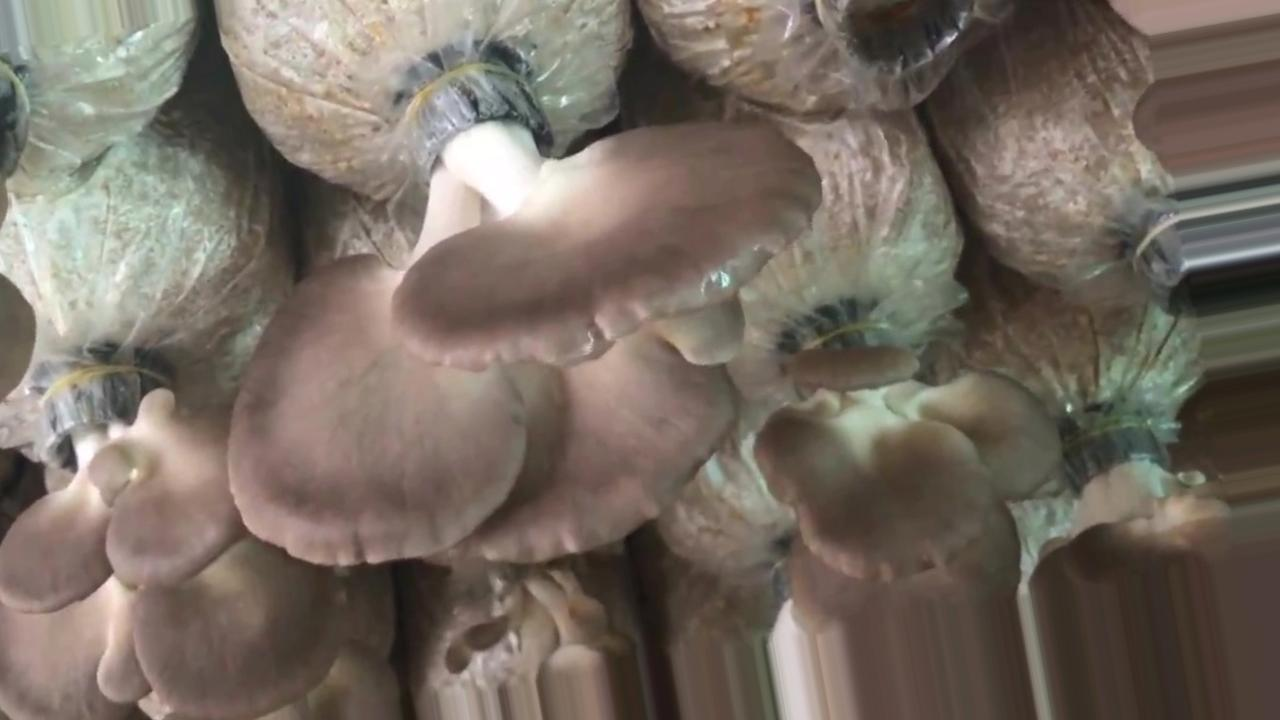nam: (228, 66, 821, 569), (1, 357, 395, 720), (753, 323, 1060, 720), (1032, 425, 1280, 717)
